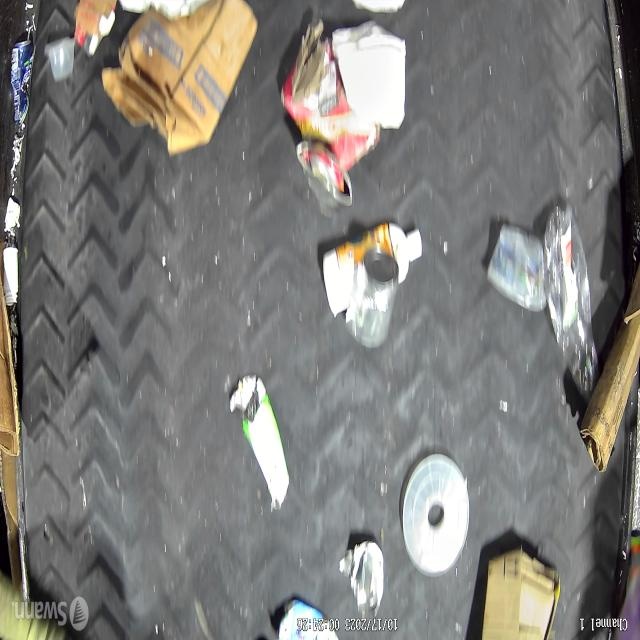can: (347, 250, 399, 350), (299, 142, 353, 208), (11, 39, 34, 128)
plastic_bottle: (540, 199, 599, 397)
